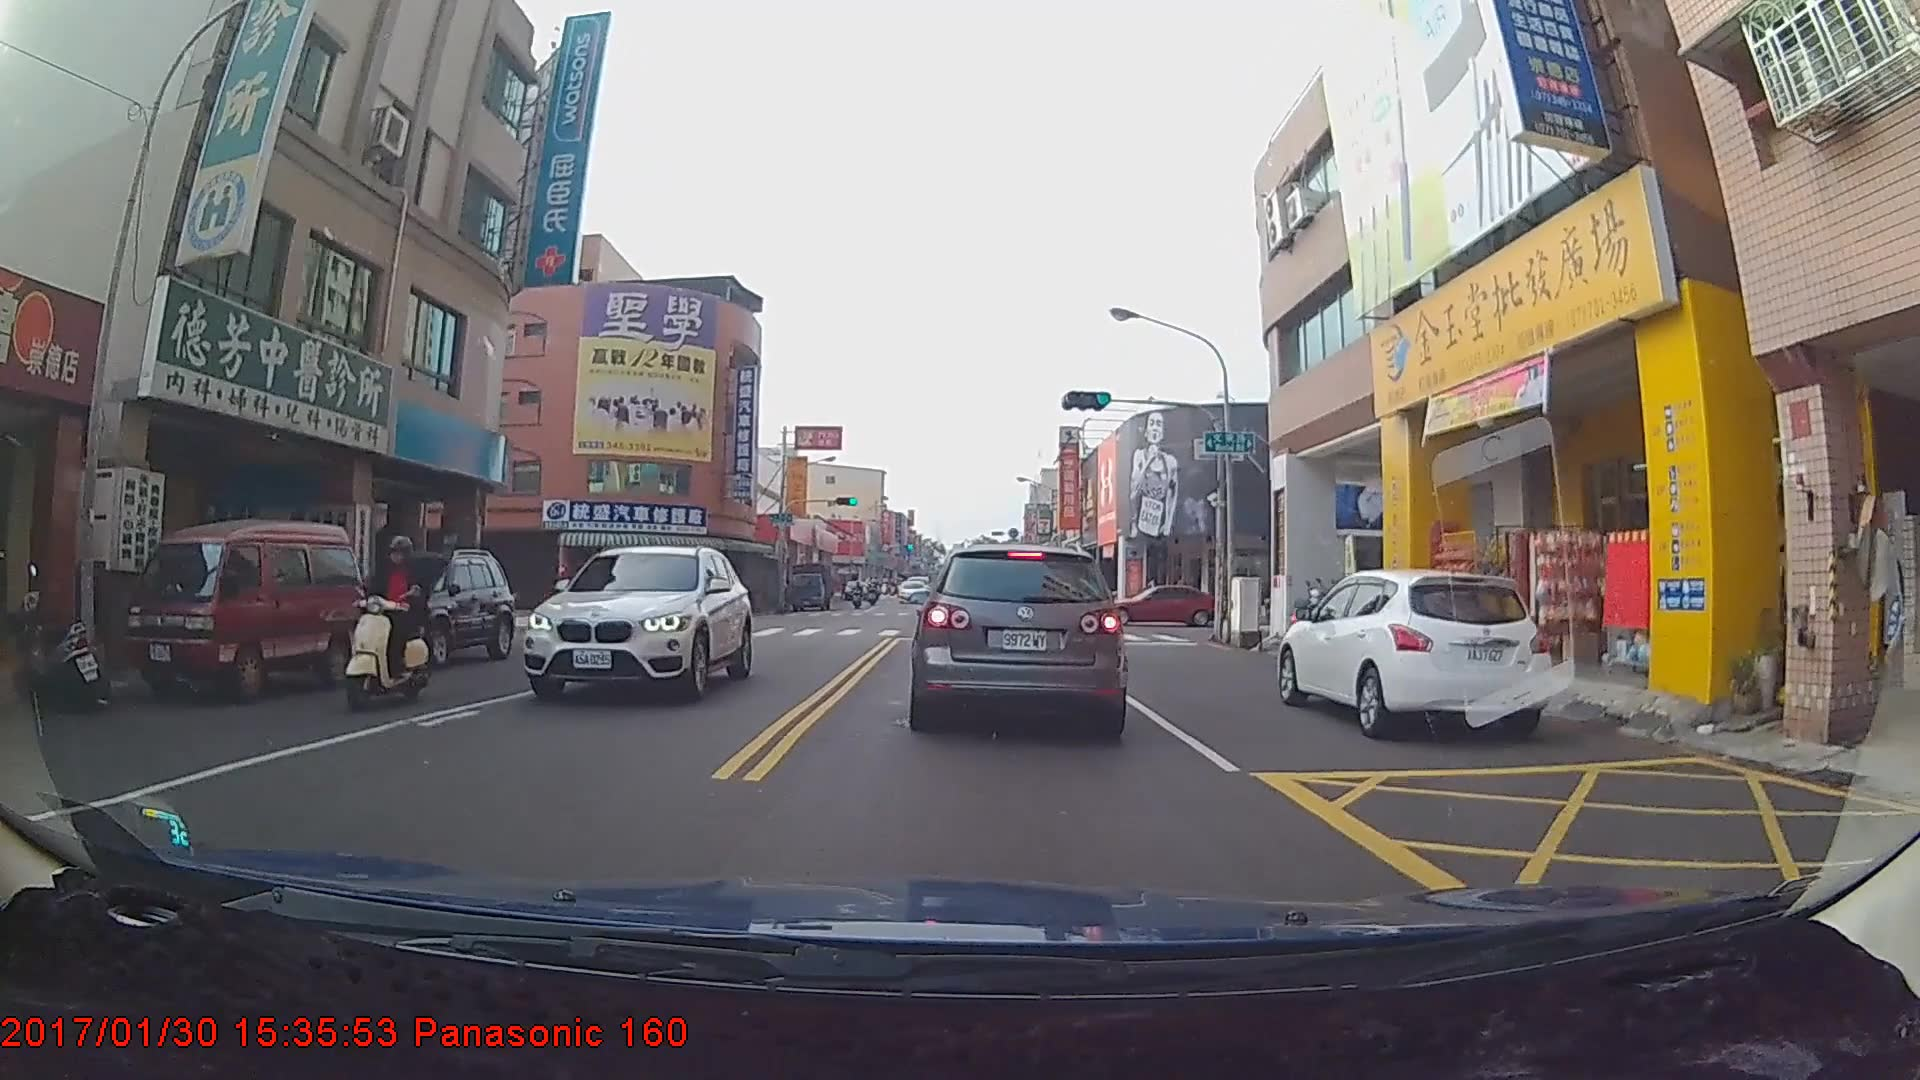rider: (348, 537, 438, 716), (847, 576, 868, 611), (847, 576, 867, 605)
vehicle: (1276, 569, 1552, 743), (132, 519, 377, 698), (911, 539, 1123, 737), (519, 546, 757, 703), (330, 549, 514, 673), (1102, 582, 1217, 627), (783, 560, 835, 610), (897, 579, 928, 603)
